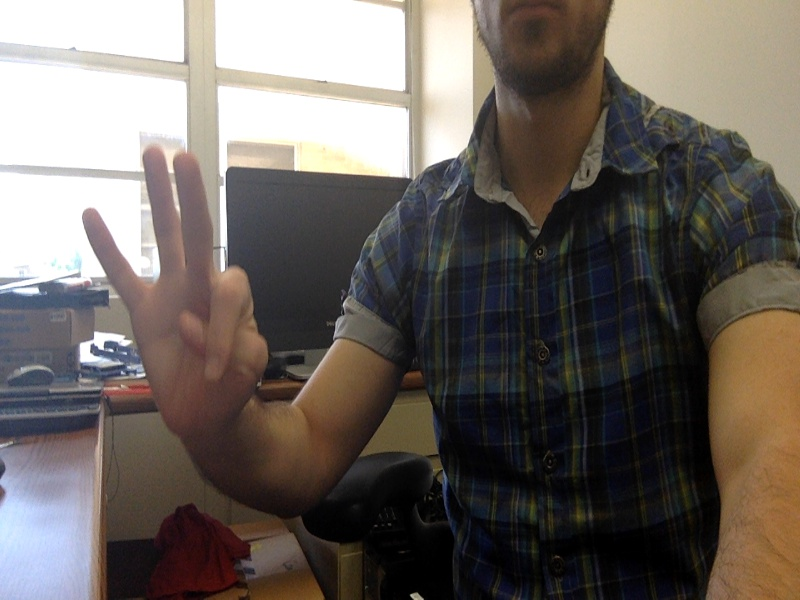3-hand: (82, 145, 268, 447)
